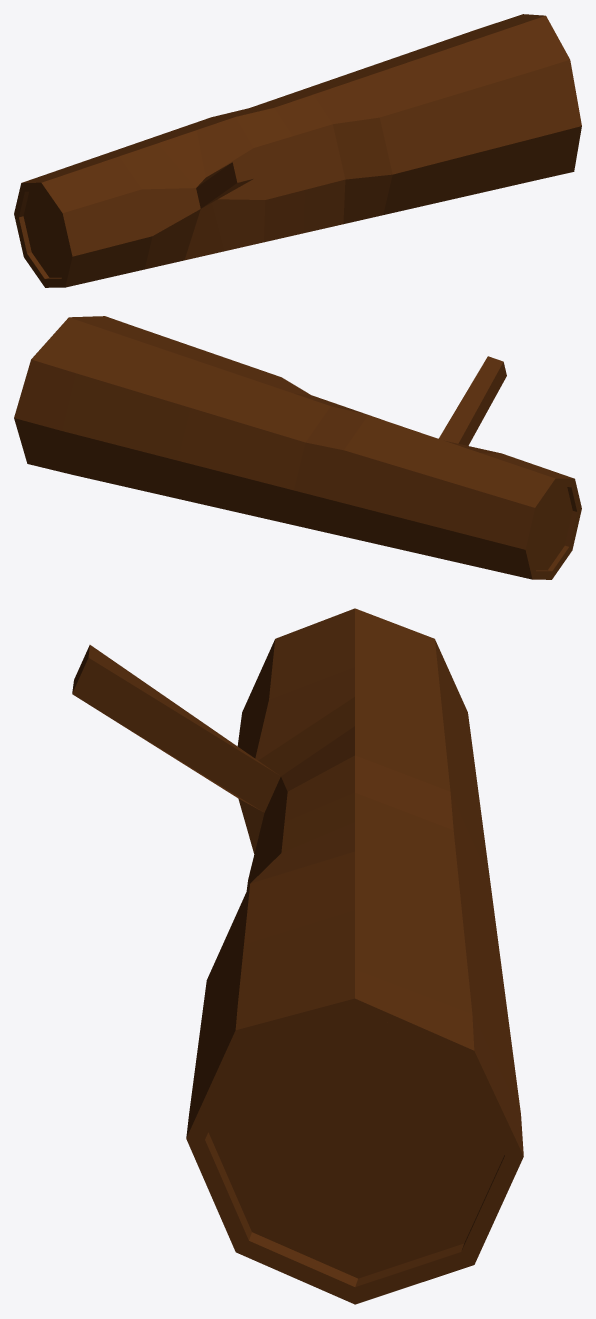
Rendered from WoodThing.fbx.
The picture shows the model from 3 angles, top to bottom: view 1: azimuth 30°, elevation 25°; view 2: azimuth 150°, elevation 25°; view 3: azimuth 270°, elevation 25°; orthographic projection. The views are drawn at different scales.
Visible parts, largest first — view 1: Cylinder; view 2: Cylinder; view 3: Cylinder.
Part boxes in pixels (left/top/right/bottom): Cylinder: left=14, top=14, right=581, bottom=287; Cylinder: left=14, top=316, right=581, bottom=579; Cylinder: left=72, top=608, right=523, bottom=1304.
Size of the model in its own units: 677 by 195 by 265.
